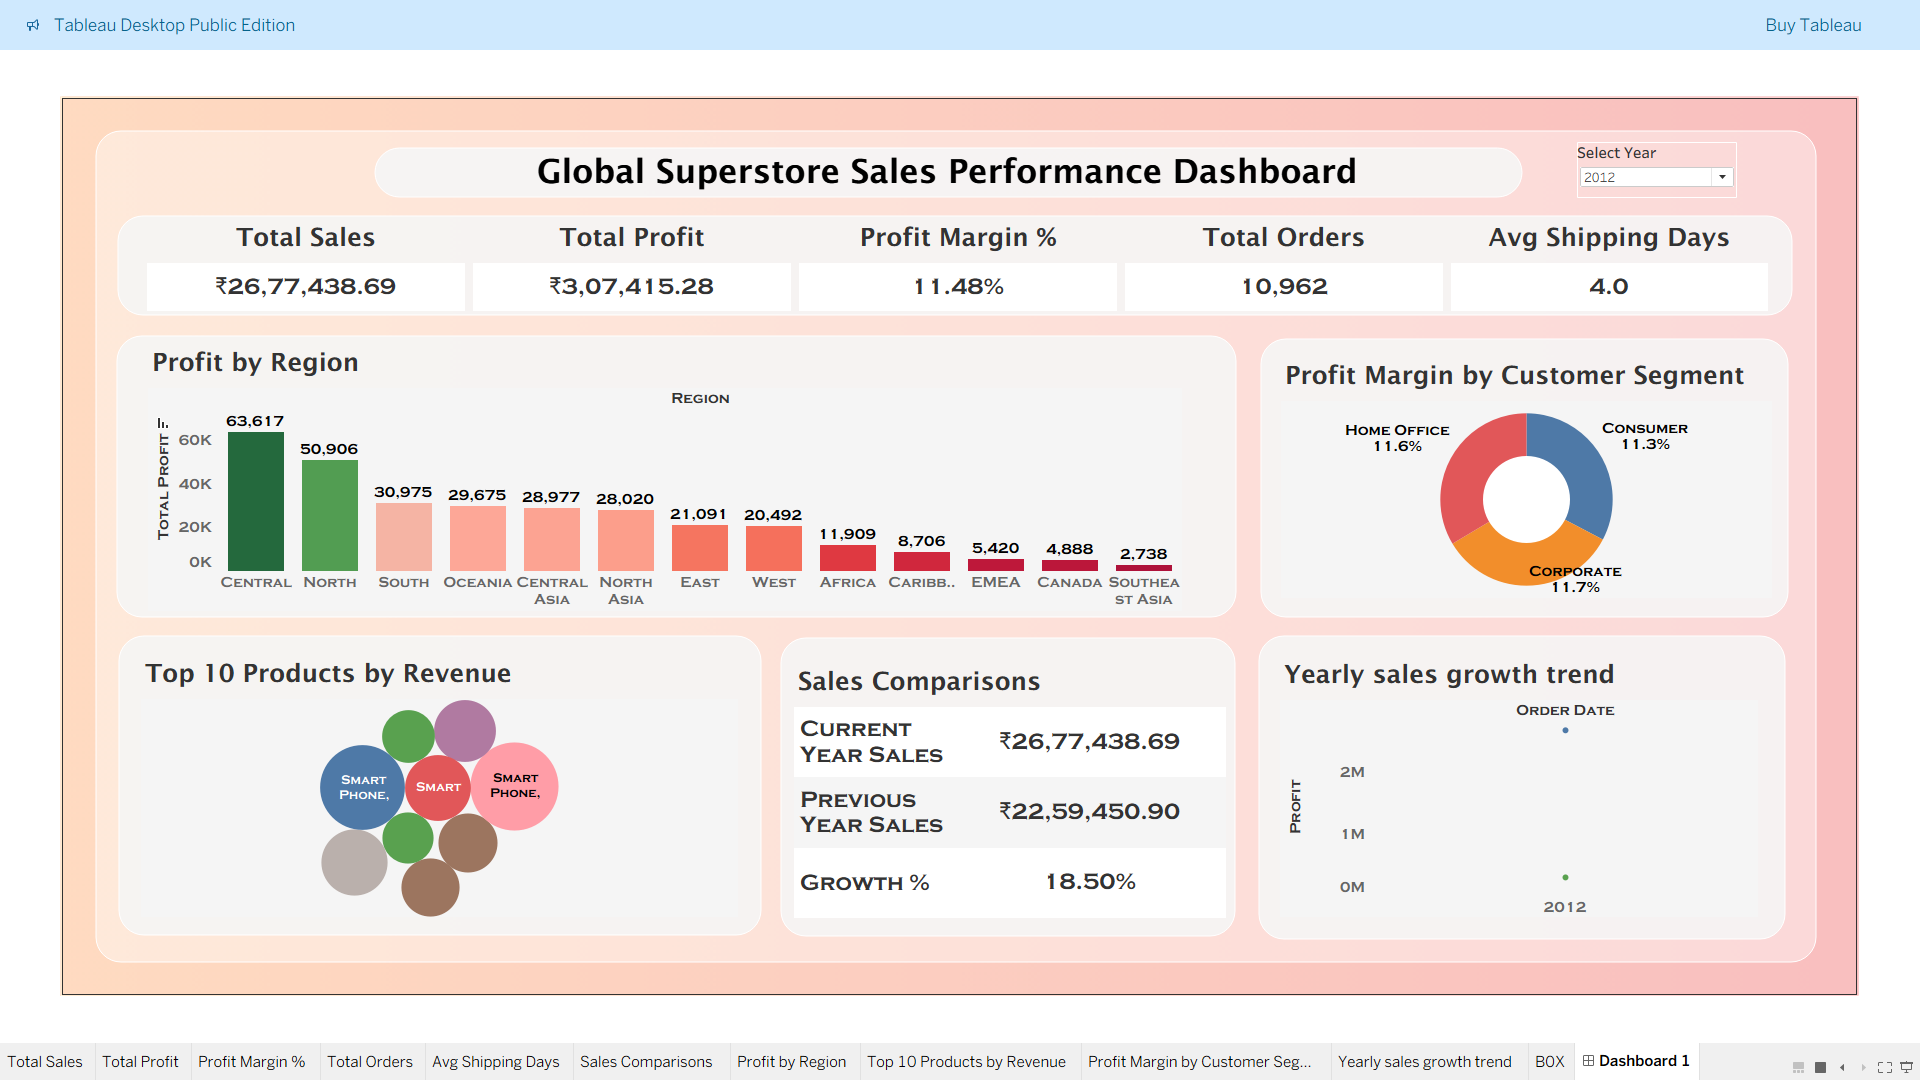

The page's visual inventory and layout, read from the dashboard file:
{"tool":"tableau","page":{"name":"Dashboard 1","canvas":[1800,900],"ordinal":0},"visuals":[{"type":"image","param":"Image/Orange 1800x900.png","box":[0,0,1800,900]},{"type":"worksheet","title":"B0X","mark":"Automatic","box":[0,0,1798,900]},{"type":"parameter","param":"[Parameters].[Parameter 1]","box":[1517,46,160,56]},{"type":"worksheet","title":"Total Sales","mark":"Automatic","box":[83,119,326,100]},{"type":"worksheet","title":"Total Profit","mark":"Automatic","box":[409,119,326,100]},{"type":"worksheet","title":"Profit Margin %","mark":"Automatic","box":[735,119,326,100]},{"type":"worksheet","title":"Total Orders","mark":"Automatic","box":[1061,119,326,100]},{"type":"worksheet","title":"Avg Shipping Days","mark":"Automatic","box":[1387,119,325,100]},{"type":"worksheet","title":"Profit by Region","mark":"Bar","rows":["Profit"],"cols":["Region"],"box":[88,248,1034,267]},{"type":"worksheet","title":"Profit Margin by Customer Segment ","mark":"Pie","cols":["Calculation_0908787829702665","Calculation_0908787829702665"],"box":[1221,261,491,241]},{"type":"worksheet","title":"Top 10 Products by Revenue","mark":"Circle","box":[81,559,597,262]},{"type":"worksheet","title":"Yearly sales growth trend","mark":"Line","rows":["Profit","Sales"],"cols":["Order Date"],"box":[1220,560,478,261]},{"type":"worksheet","title":"Sales Comparisons ","mark":"Automatic","box":[734,567,432,255]}]}

Visuals, with their boxes on the page's 1800x900 design canvas (x1, y1, x2, y2). These are canvas units, not pixel positions in the 1920x1080 screenshot, which may show the page scaled, cropped or inside an application window:
image: <box>0,0,1800,900</box>
"B0X" worksheet: <box>0,0,1798,900</box>
parameter: <box>1517,46,1677,102</box>
"Total Sales" worksheet: <box>83,119,409,219</box>
"Total Profit" worksheet: <box>409,119,735,219</box>
"Profit Margin %" worksheet: <box>735,119,1061,219</box>
"Total Orders" worksheet: <box>1061,119,1387,219</box>
"Avg Shipping Days" worksheet: <box>1387,119,1712,219</box>
"Profit by Region" worksheet (Bar marks): <box>88,248,1122,515</box>
"Profit Margin by Customer Segment " worksheet (Pie marks): <box>1221,261,1712,502</box>
"Top 10 Products by Revenue" worksheet (Circle marks): <box>81,559,678,821</box>
"Yearly sales growth trend" worksheet (Line marks): <box>1220,560,1698,821</box>
"Sales Comparisons " worksheet: <box>734,567,1166,822</box>
